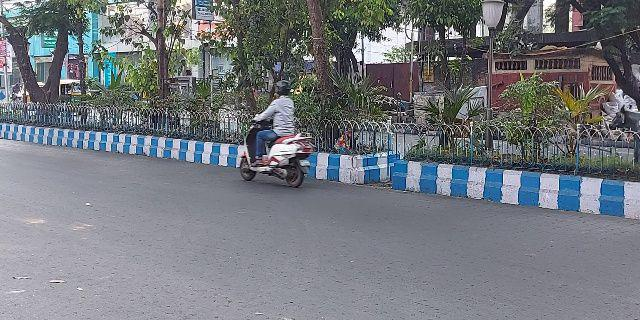Motorbike: (235, 81, 315, 189)
